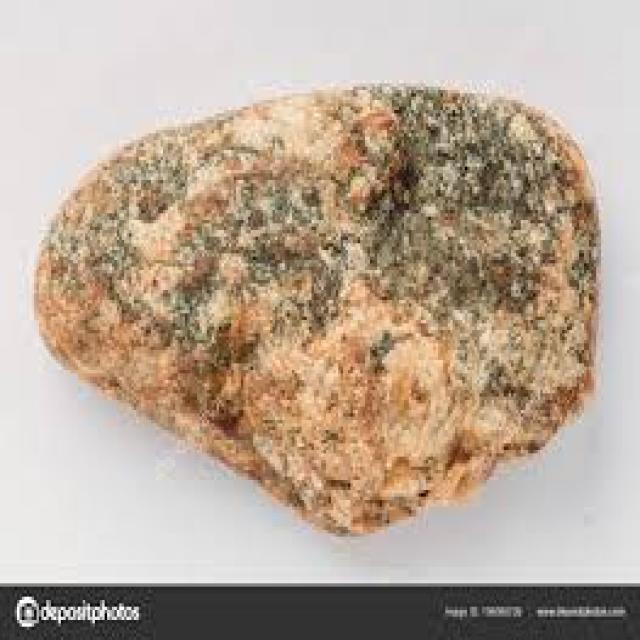Metamorphic: (32, 83, 613, 537)
